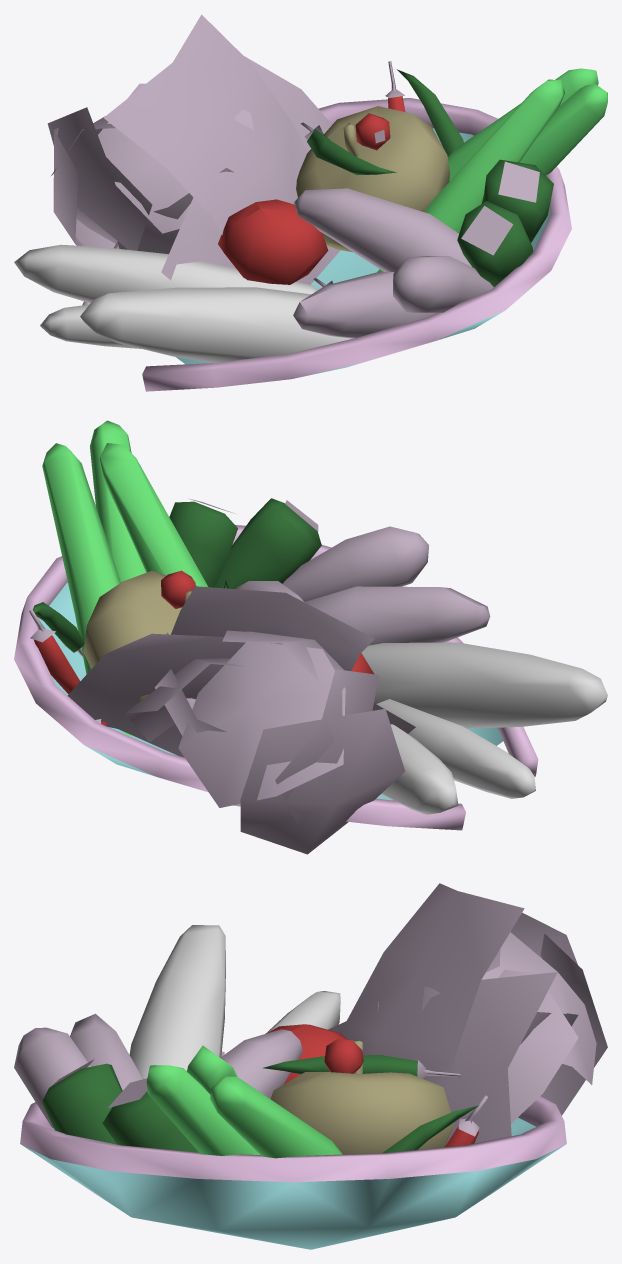
The model's file is GPBX02.FBX.
The picture shows the model from 3 angles, top to bottom: view 1: azimuth 30°, elevation 25°; view 2: azimuth 150°, elevation 25°; view 3: azimuth 270°, elevation 25°; orthographic projection. The views are drawn at different scales.
Visible parts, largest first — view 1: GPBX02; view 2: GPBX02; view 3: GPBX02.
Part boxes in pixels (<box>): GPBX02: <box>14,14,607,391</box>; GPBX02: <box>14,420,607,854</box>; GPBX02: <box>14,883,607,1249</box>.
Size of the model in its own units: 42.28 by 35.65 by 18.69.
